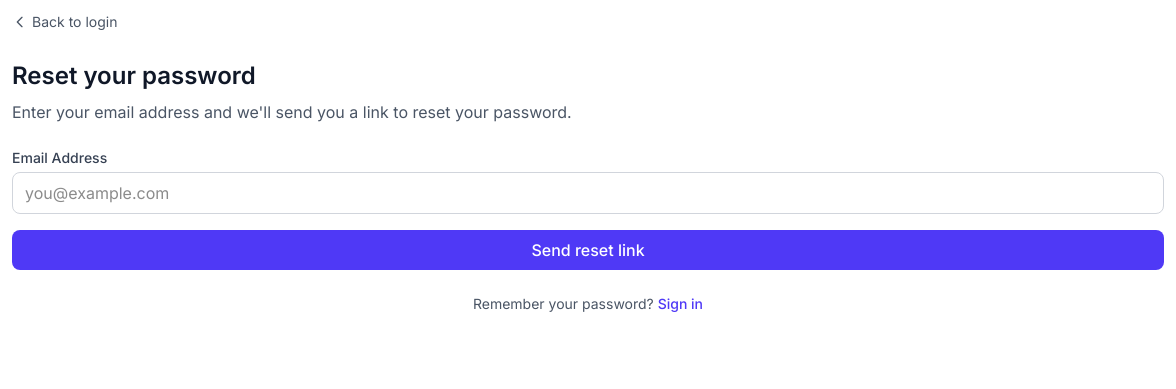
it: Login Page › Error Handling › displays generic error message on network failure
Type "test@example.com" into the field labelled "Email Address" at {"x": 588, "y": 193}, box [12,172,1164,214]
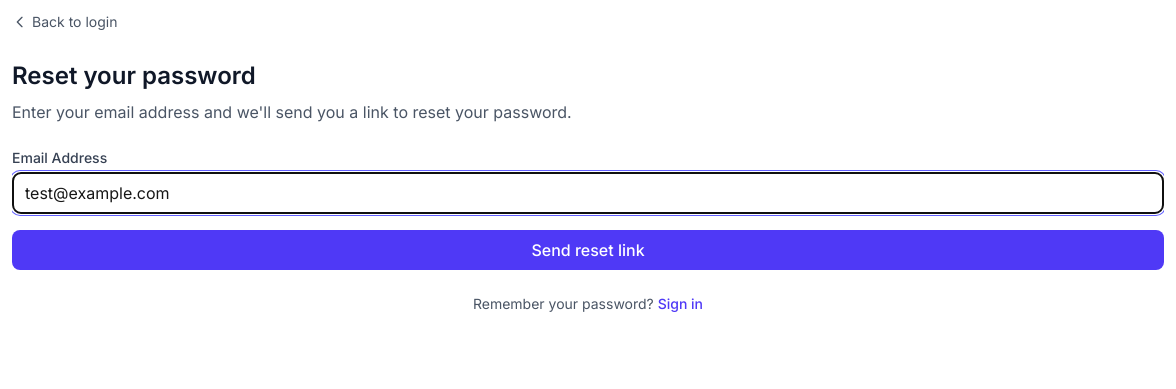
Click the button "Send reset link" at {"x": 588, "y": 250}, box [12,230,1164,270]
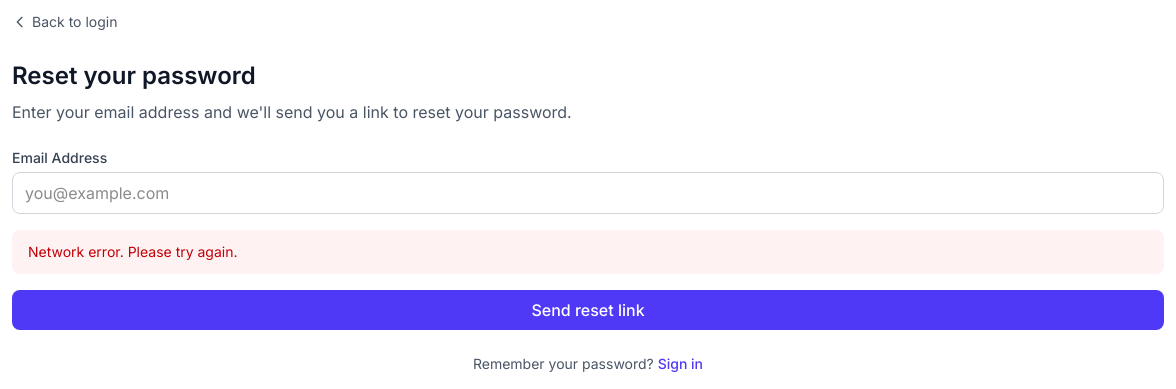
Expected: the button "Send reset link" is enabled, [12,290,1164,330]
Now the text "Network error. Please try again." is shown, box [12,230,1164,274]
